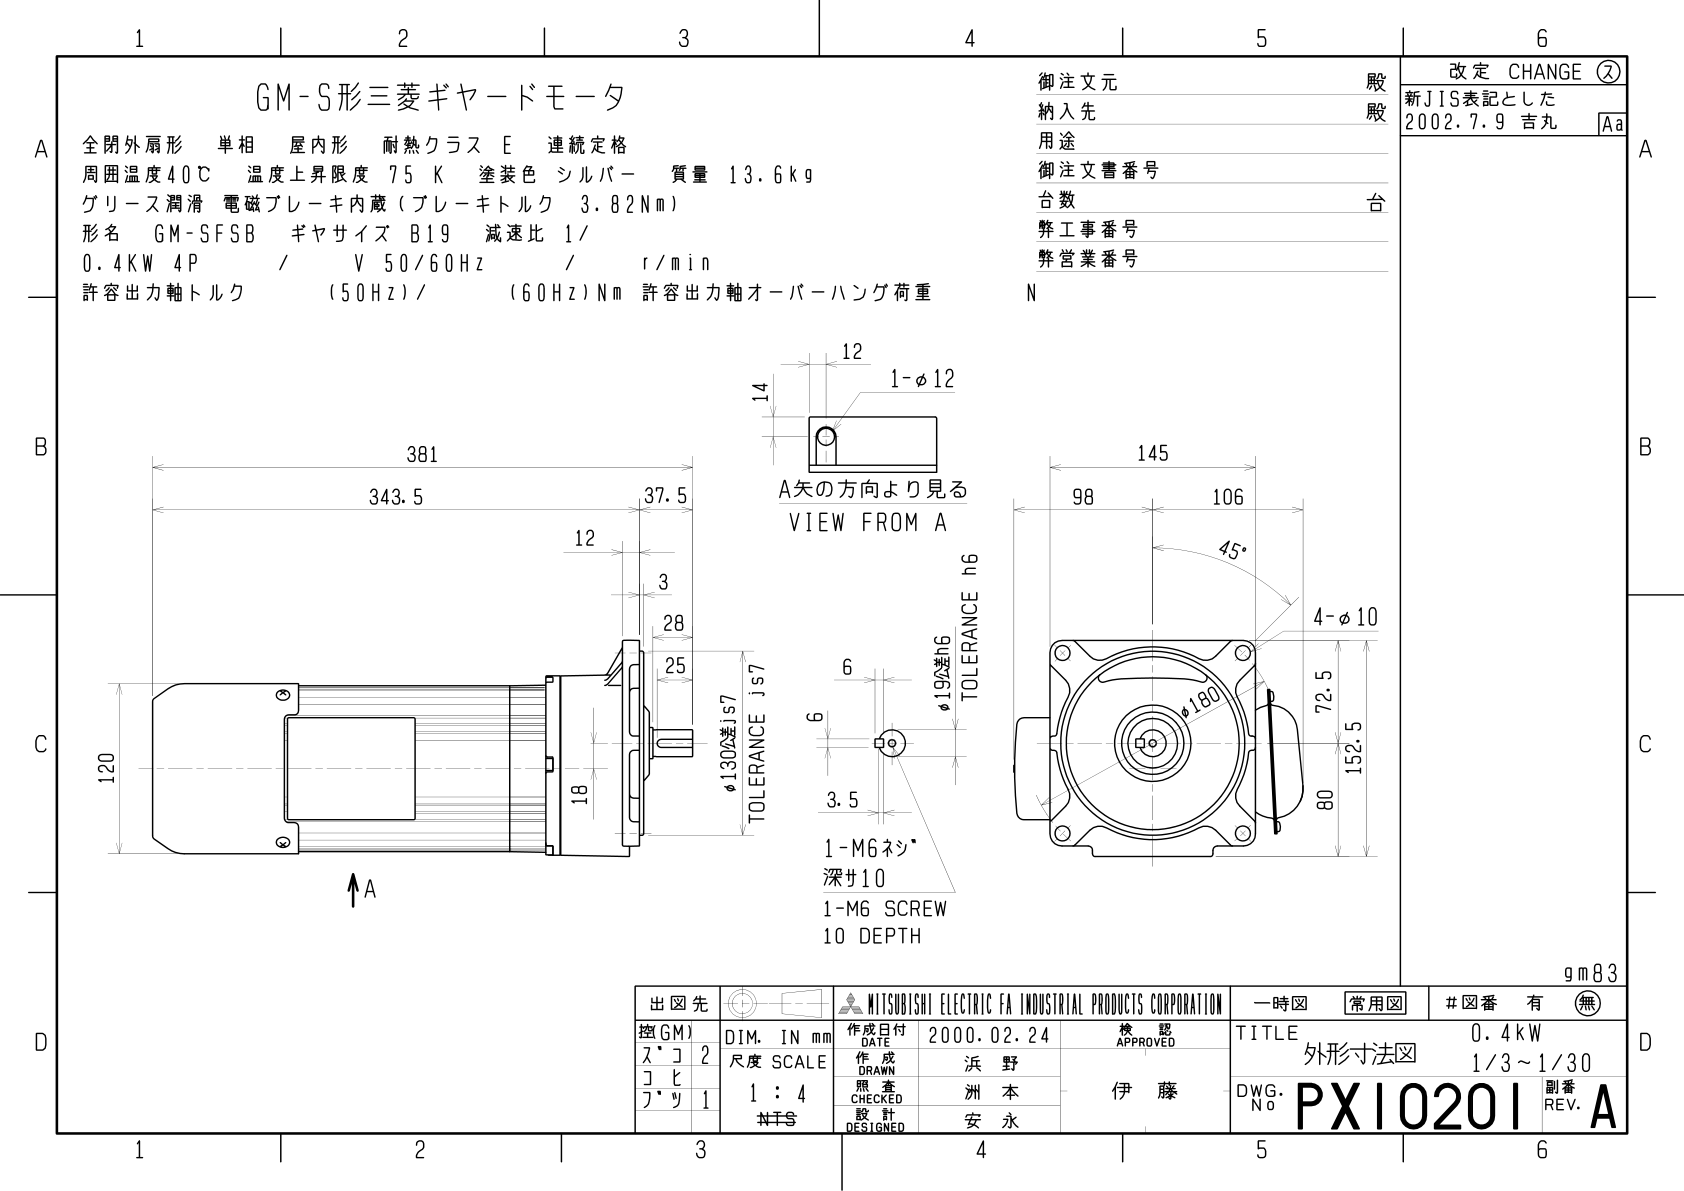GM_S_屋内＿単相_フランジ: (79, 336, 1389, 963)
